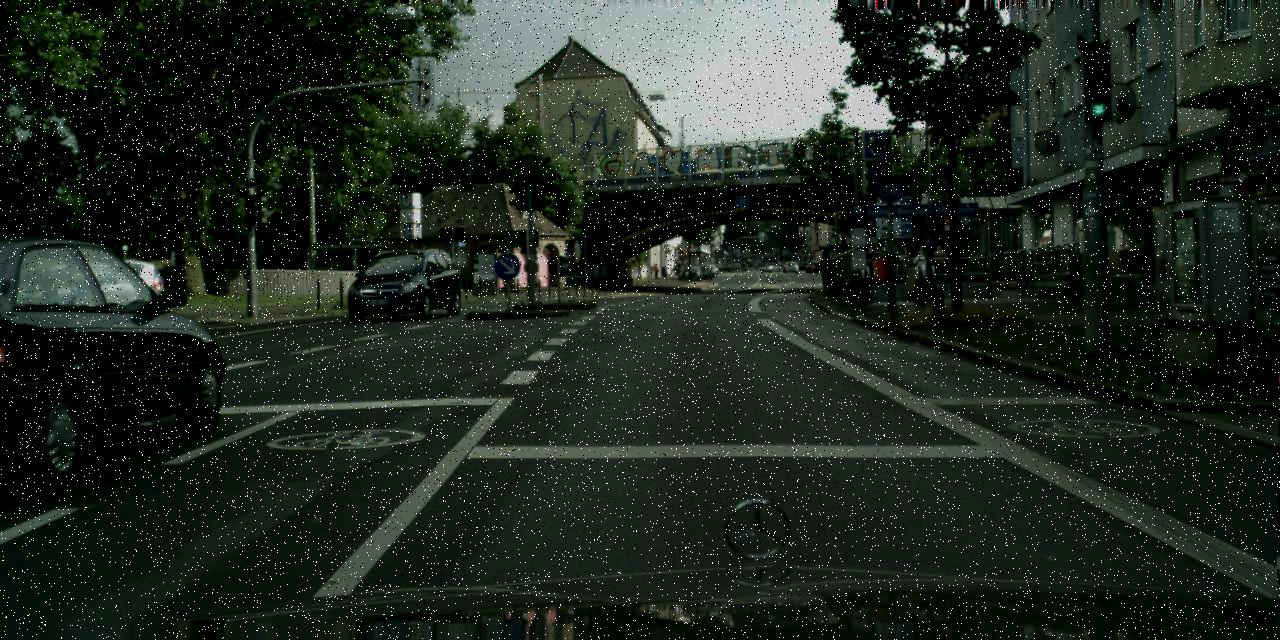ped: (867, 245, 881, 280), (931, 246, 945, 280), (914, 250, 924, 278), (676, 260, 682, 275), (653, 263, 658, 279)
